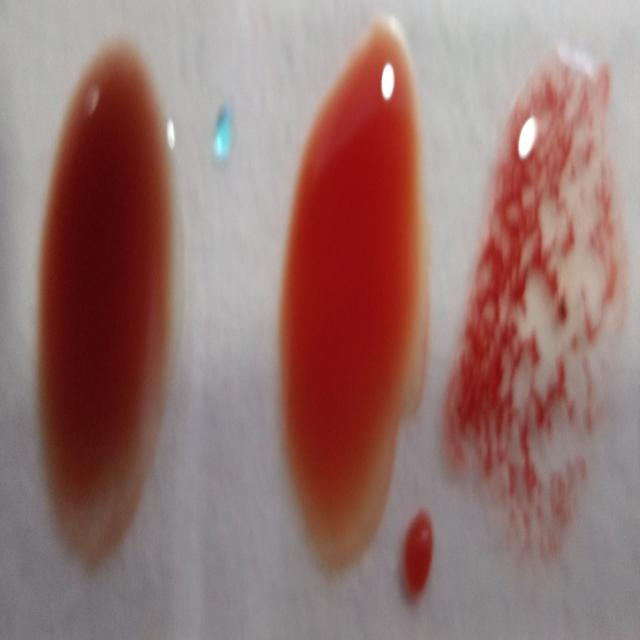D: (472, 64, 618, 552)
